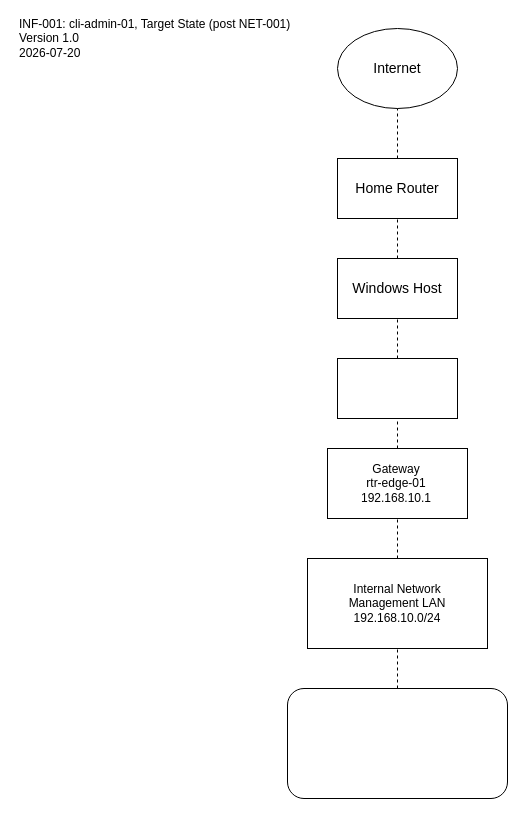
Some shapes in this 525 by 816 pixel diagram are drawn without their labels. Each missing label, with the box of its shape:
VirtualBox: (336, 358, 458, 418)
VM: cli-admin-01 Hostname: cli-admin-01 IP: 192.168.10.10: (286, 688, 508, 798)
